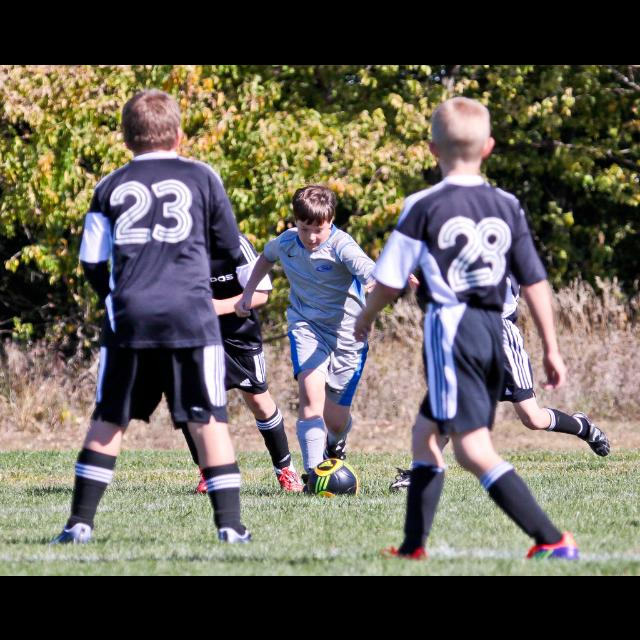Football: (304, 456, 360, 496)
